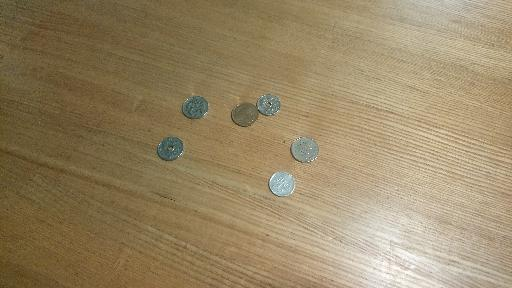100yen: (292, 139, 317, 161), (183, 97, 207, 118)
10yen: (231, 102, 258, 126)
1yen: (268, 172, 294, 196)
